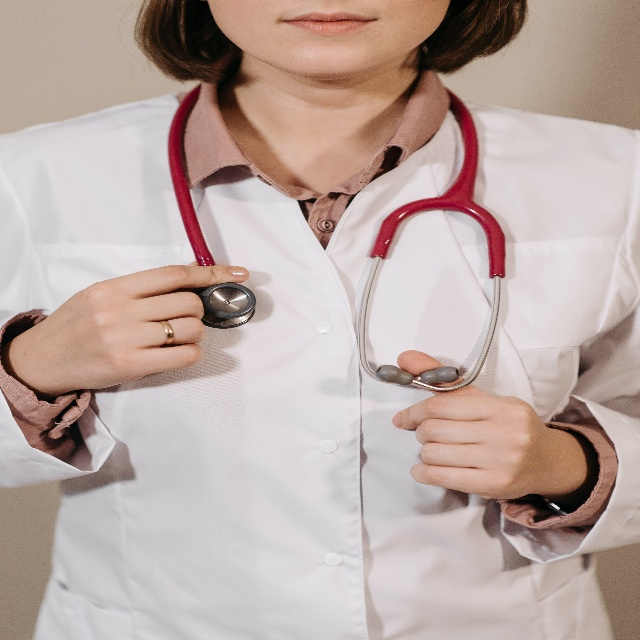Sin_guantes: (42, 263, 249, 391), (389, 350, 541, 493)
